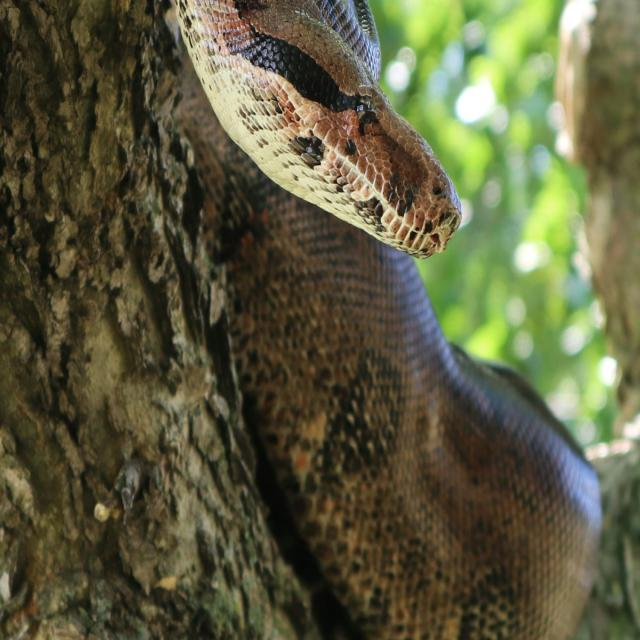Snake: (113, 0, 620, 640)
